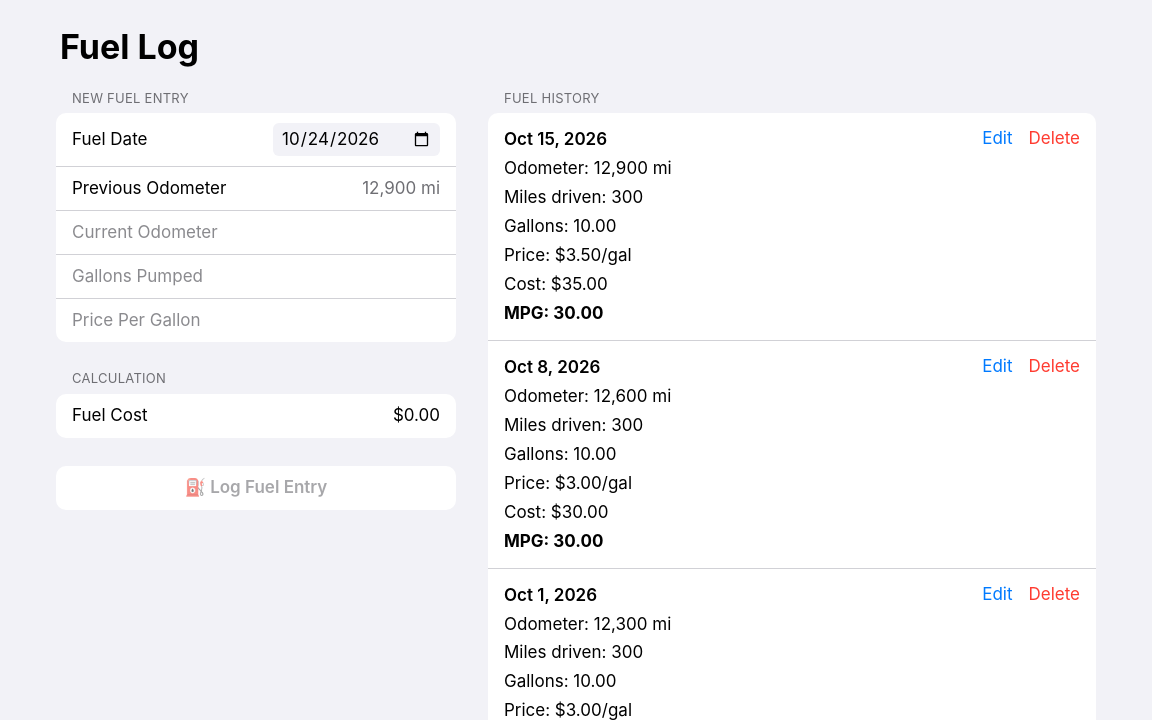
new fuel entry › lets you pick a date and falls back to today when it is cleared
expect the text "Oct 15, 2026" is shown: met, box 504,129 -> 607,149
Clear the date field labelled "Fuel Date" at (356, 140), box 273,123 -> 440,156
Type "2026-10-20" into the date field labelled "Fuel Date" at (356, 140), box 273,123 -> 440,156
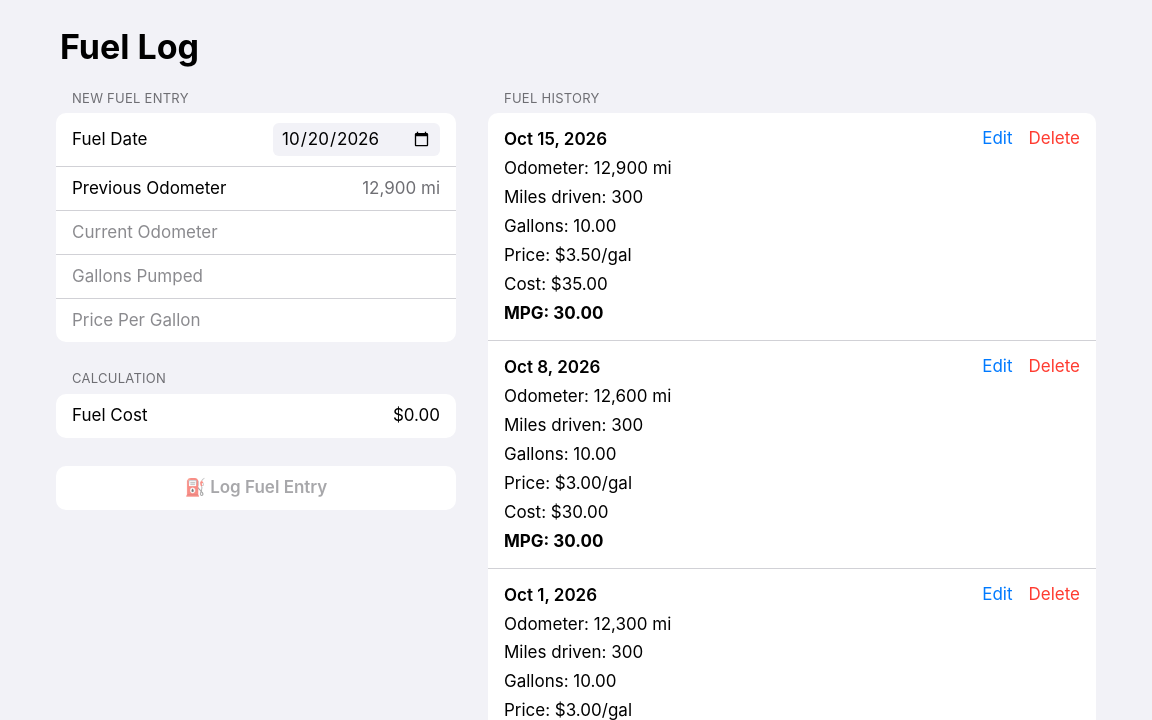
Type "13200" into the field labelled "Current Odometer" at (256, 233), box 72,221 -> 440,244
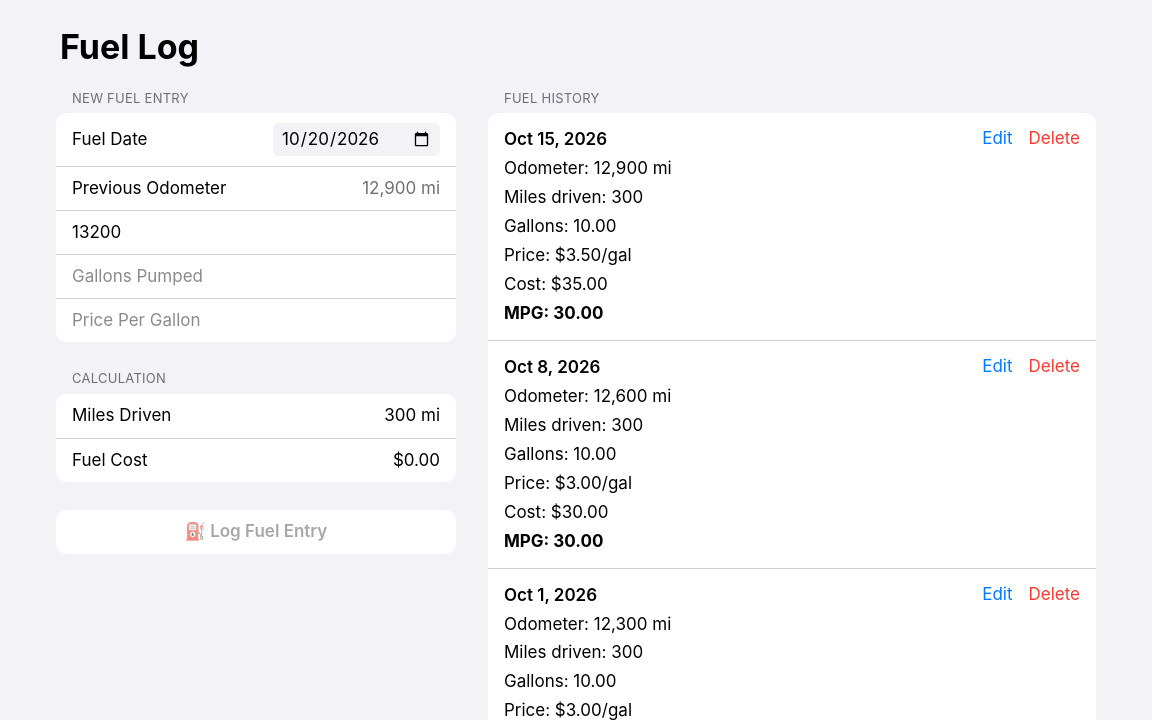
Type "10" into the field labelled "Gallons Pumped" at (256, 277), box 72,265 -> 440,288
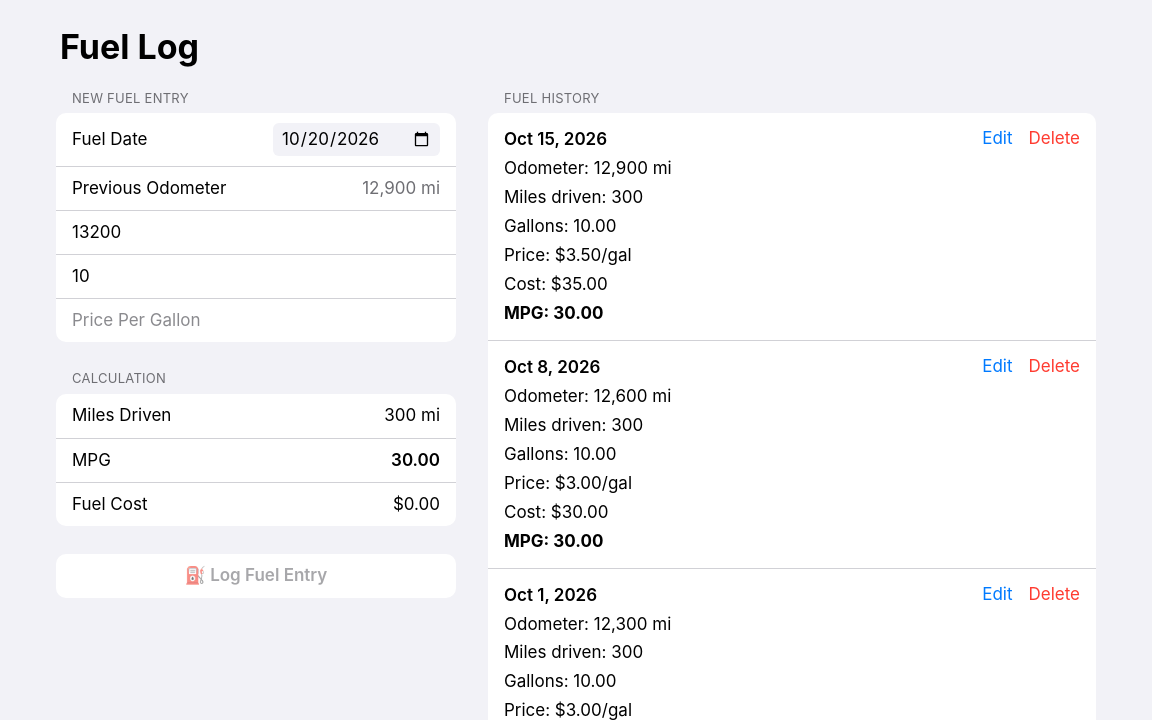
Type "3" into the field labelled "Price Per Gallon" at (256, 321), box 72,309 -> 440,332
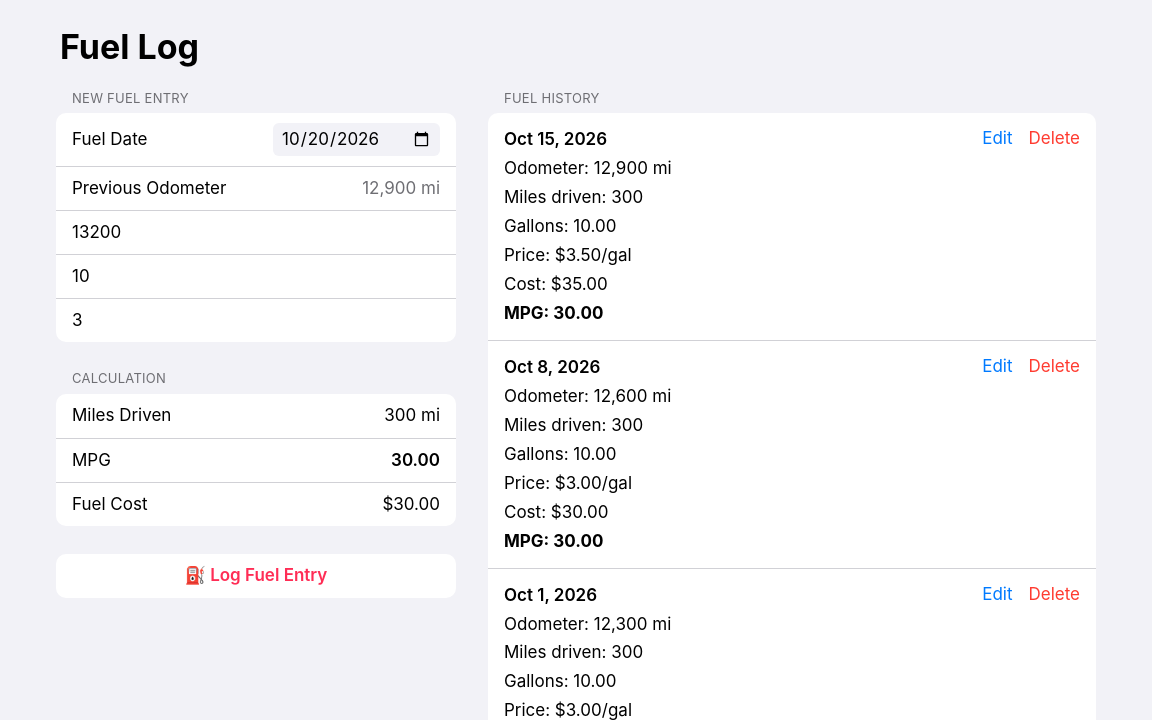
Click the button "⛽ Log Fuel Entry" at (256, 576), box 56,554 -> 456,598
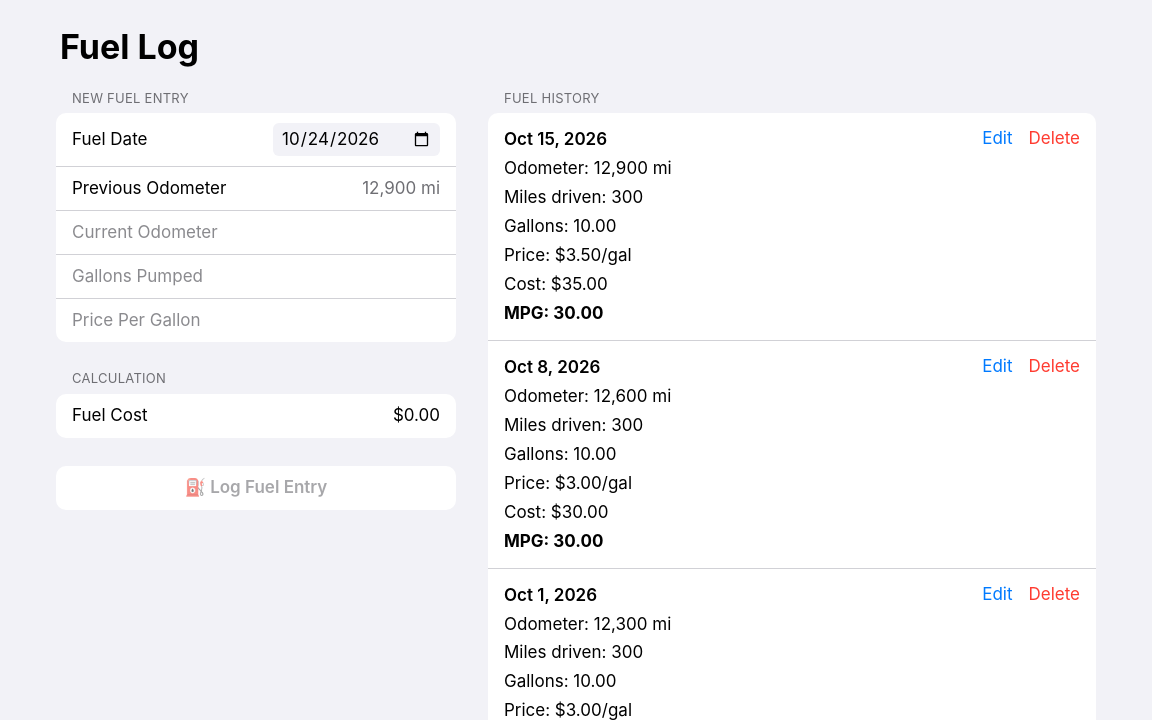
expect the date field labelled "Fuel Date" holds "2026-10-24": met, box 273,123 -> 440,156
